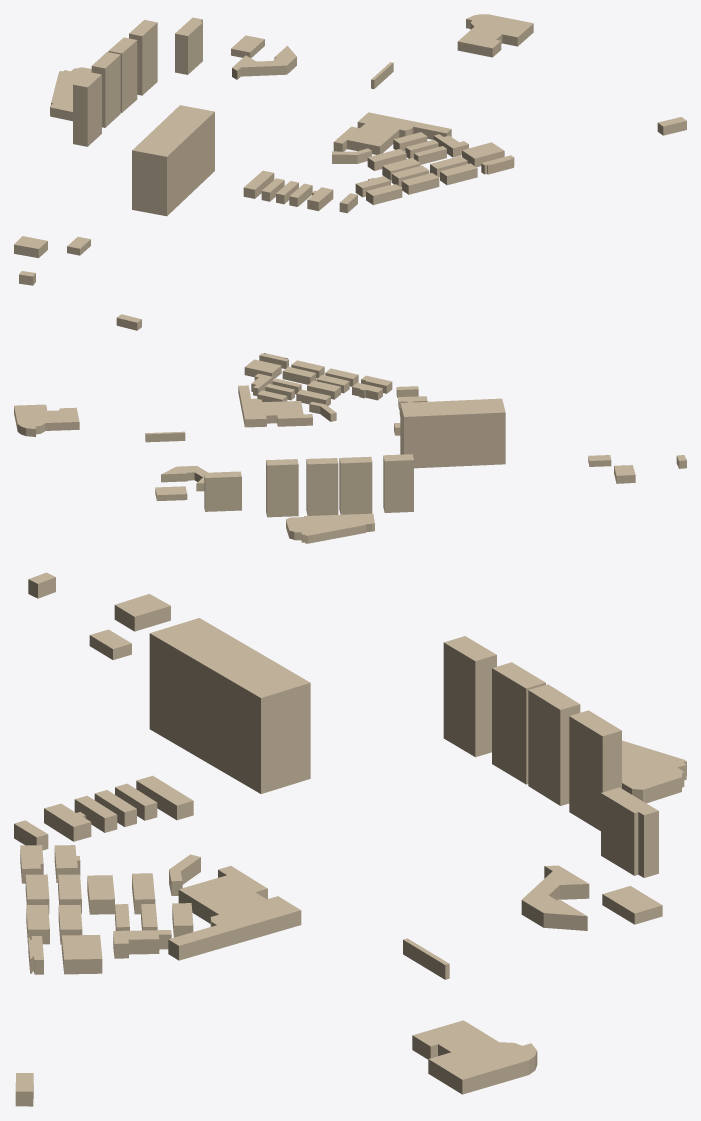
The model's file is -22_15-estimated-coarse.glb.
The picture shows the model from 3 angles, top to bottom: view 1: azimuth 30°, elevation 25°; view 2: azimuth 150°, elevation 25°; view 3: azimuth 270°, elevation 25°; orthographic projection. The views are drawn at different scales.
Size of the model in its own units: 904 by 78 by 495.
